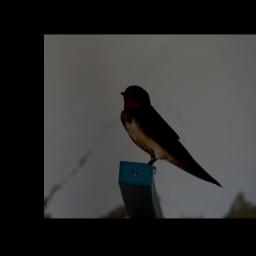Swallow: (117, 83, 224, 190)
